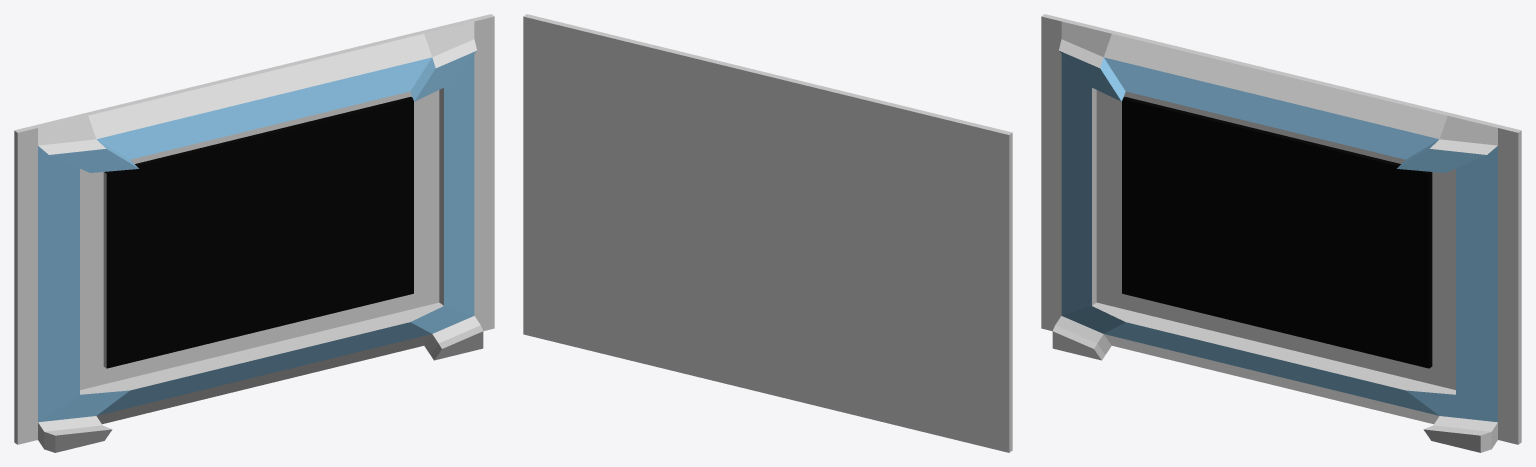
File: sciana1_lob.fbx
3 renders of one model, left to right at view 1: azimuth 30°, elevation 25°; view 2: azimuth 150°, elevation 25°; view 3: azimuth 330°, elevation 25°, orthographic.
Parts seen in each view (by area): view 1: Cube; view 2: Cube; view 3: Cube.
Part boxes in pixels (x1,y1,x2,y2): Cube: (14, 14, 494, 452); Cube: (523, 14, 1012, 452); Cube: (1041, 14, 1521, 452).
Bounding box in the file's own units: 800 × 508 × 71.3.
